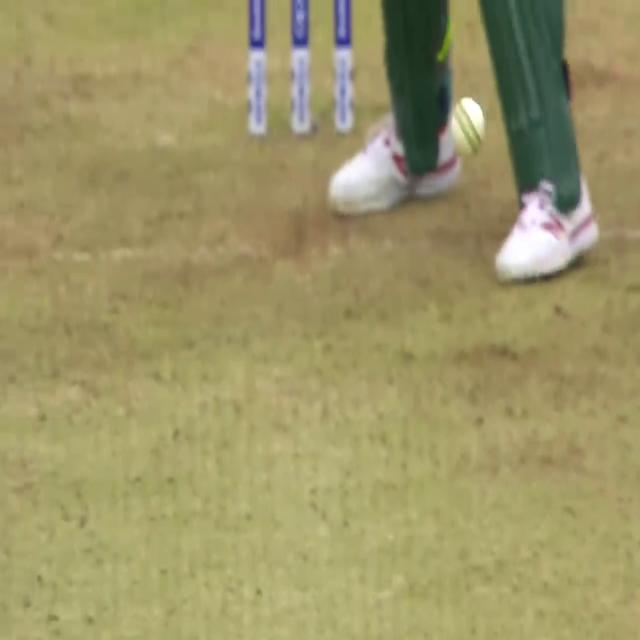ball: (443, 80, 499, 165)
